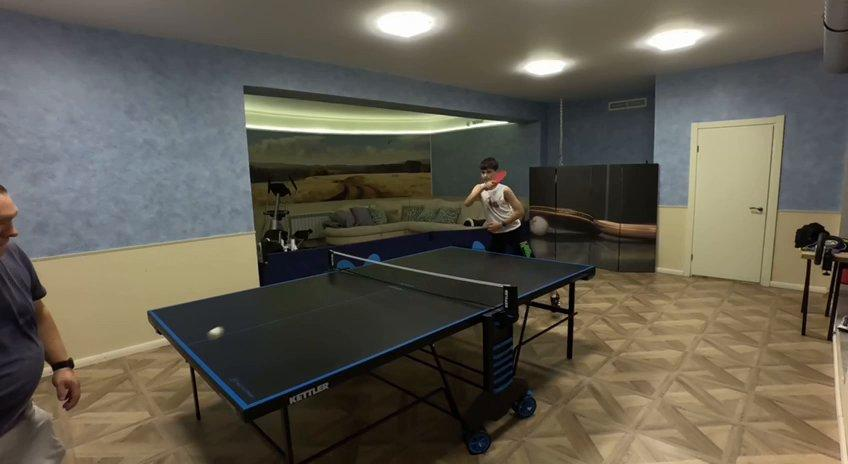Ball: (206, 326, 225, 341)
Net: (329, 250, 515, 318)
Player1: (465, 158, 530, 254)
Player2: (0, 184, 79, 463)
Table: (149, 245, 594, 409)
